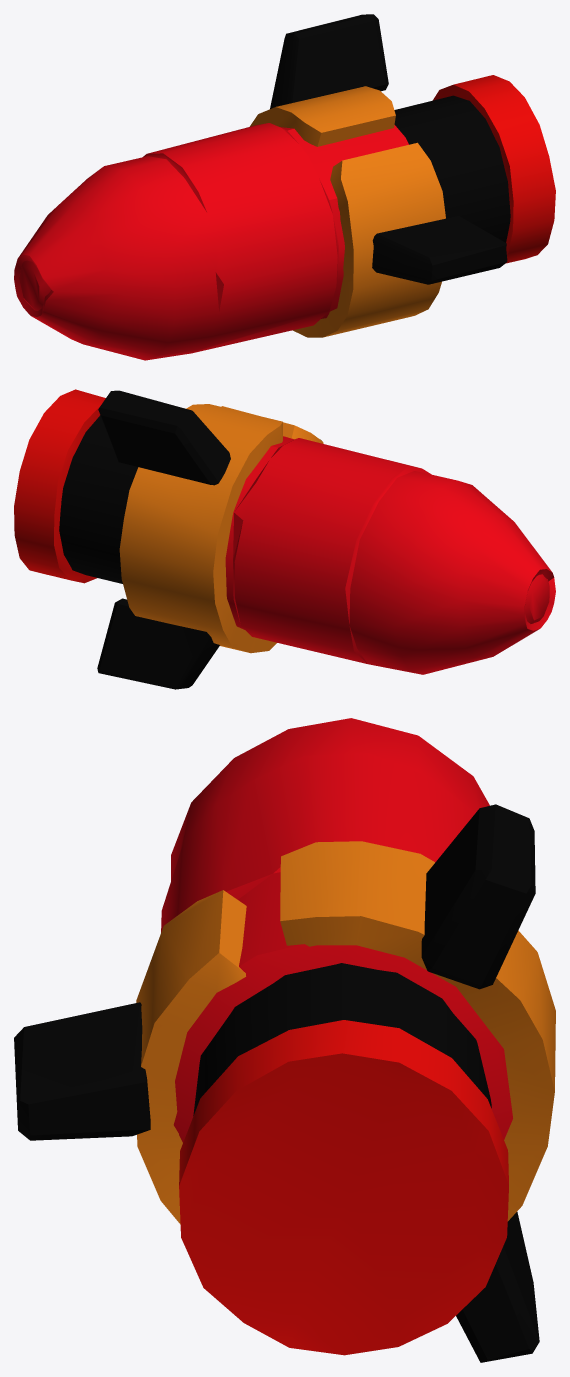
Rendered from rockets.fbx.
The picture shows the model from 3 angles, top to bottom: view 1: azimuth 30°, elevation 25°; view 2: azimuth 150°, elevation 25°; view 3: azimuth 270°, elevation 25°; orthographic projection. The views are drawn at different scales.
Visible parts, largest first — view 1: mesh_node.001, mesh_node.005, mesh_node.008, mesh_node.002, mesh_node.007, mesh_node.013, mesh_node.006; view 2: mesh_node.001, mesh_node.005, mesh_node.002, mesh_node.008, mesh_node.007, mesh_node.011, mesh_node.006; view 3: mesh_node.002, mesh_node.001, mesh_node.005, mesh_node.013, mesh_node.007, mesh_node.008, mesh_node.011.
Part boxes in pixels (bbox=[...]): mesh_node.001: bbox=[14, 123, 408, 360]; mesh_node.005: bbox=[249, 86, 445, 337]; mesh_node.008: bbox=[394, 95, 510, 242]; mesh_node.002: bbox=[433, 75, 555, 263]; mesh_node.007: bbox=[270, 14, 388, 108]; mesh_node.013: bbox=[372, 216, 507, 284]; mesh_node.006: bbox=[19, 260, 50, 310]; mesh_node.001: bbox=[225, 436, 555, 674]; mesh_node.005: bbox=[119, 404, 323, 653]; mesh_node.002: bbox=[14, 389, 105, 583]; mesh_node.008: bbox=[59, 415, 138, 583]; mesh_node.007: bbox=[98, 390, 230, 485]; mesh_node.011: bbox=[97, 598, 219, 689]; mesh_node.006: bbox=[525, 574, 549, 623]; mesh_node.002: bbox=[179, 1020, 508, 1355]; mesh_node.001: bbox=[161, 718, 512, 1142]; mesh_node.005: bbox=[136, 841, 555, 1224]; mesh_node.013: bbox=[14, 1002, 150, 1140]; mesh_node.007: bbox=[421, 804, 535, 989]; mesh_node.008: bbox=[193, 963, 491, 1115]; mesh_node.011: bbox=[456, 1212, 539, 1362].
Size of the model in its own units: 93.75 by 52.15 by 51.95.
